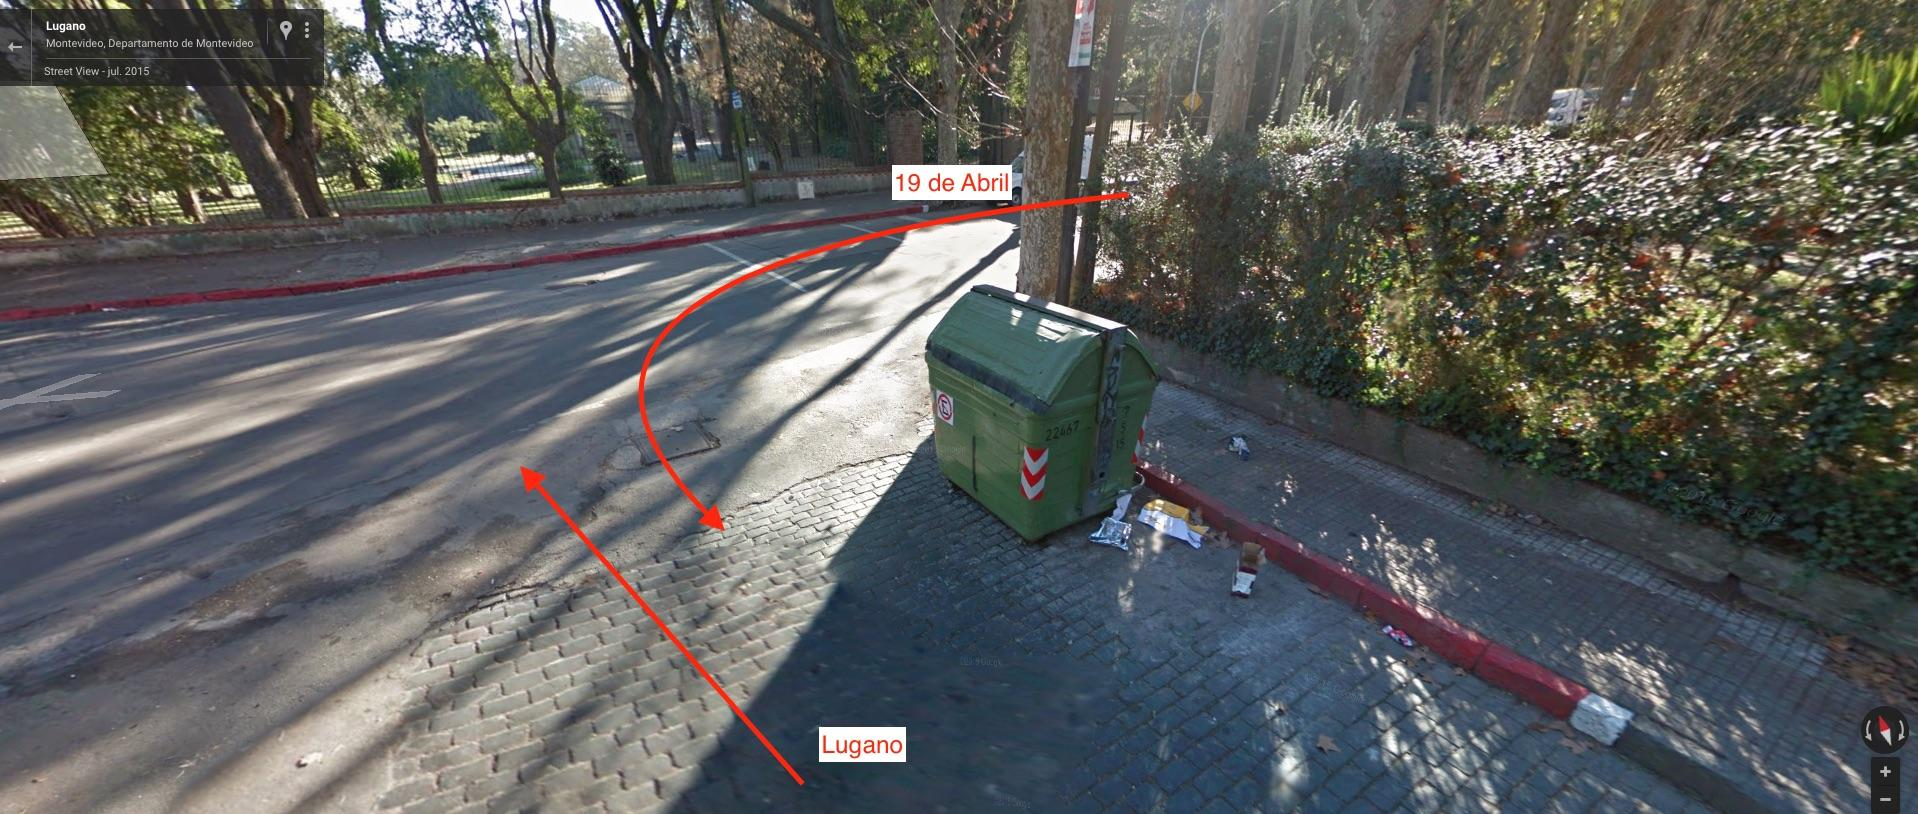Dechets: (1140, 497, 1211, 546), (1089, 496, 1134, 548), (1231, 539, 1268, 599), (1376, 619, 1421, 649), (1227, 435, 1251, 461)
Trash: (924, 279, 1164, 545)
